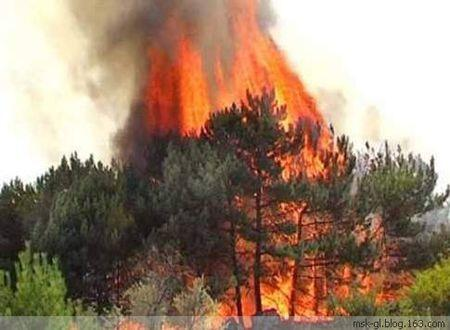fire: (140, 44, 298, 107), (227, 255, 348, 316)
smoke: (61, 3, 144, 164), (120, 1, 286, 41)
